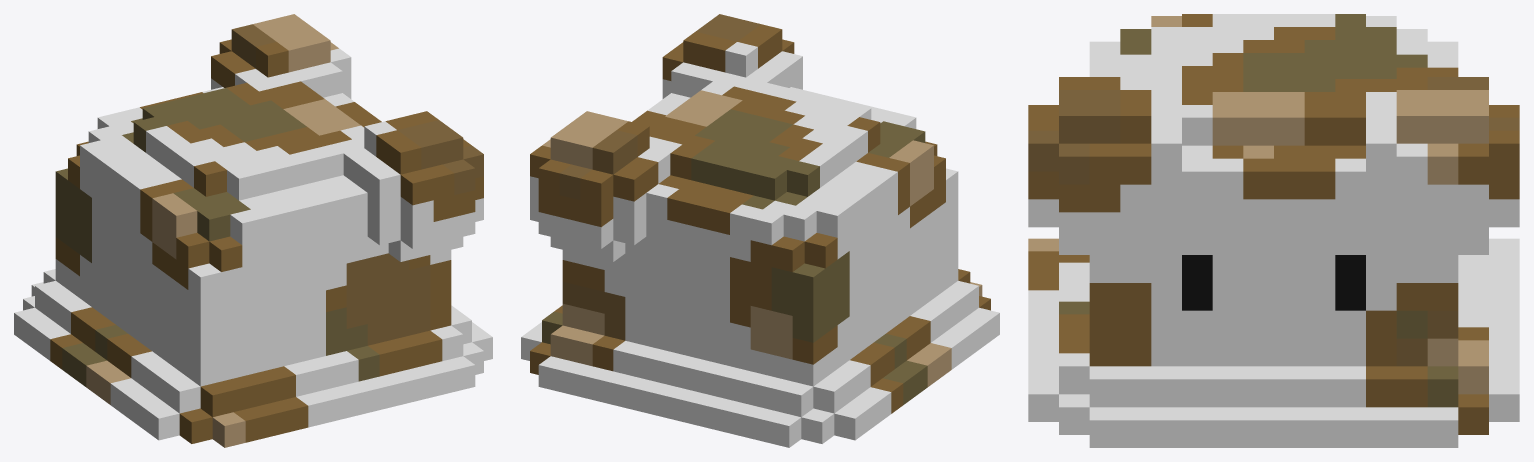
Rendered from DogSlime.obj.
3 views of the same model, side by side, from view 1: azimuth 30°, elevation 25°; view 2: azimuth 150°, elevation 25°; view 3: azimuth 270°, elevation 25° (orthographic). The views are drawn at different scales.
Size of the model in its own units: 1.6 by 1.1 by 1.6.
1 material, 1 textured.
